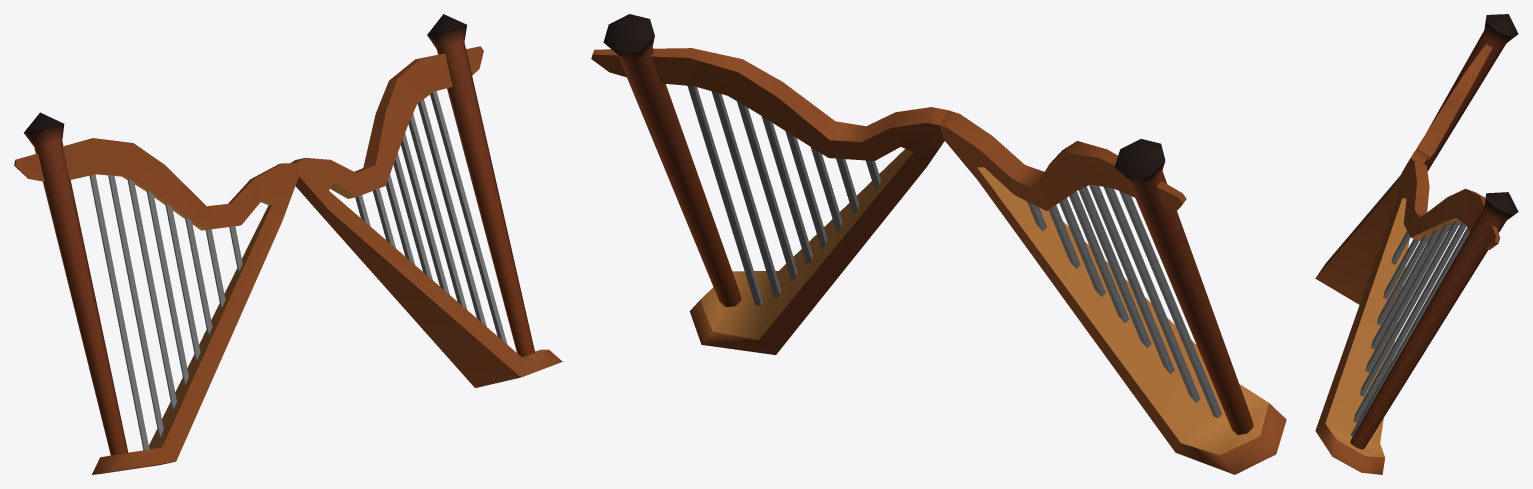
File: hat_premium_Harp.glb
The picture shows the model from 3 angles, left to right: view 1: azimuth 30°, elevation 25°; view 2: azimuth 150°, elevation 25°; view 3: azimuth 270°, elevation 25°; orthographic projection. The views are drawn at different scales.
Parts seen in each view (by area): view 1: hat_premium_Harp; view 2: hat_premium_Harp; view 3: hat_premium_Harp.
Boxes of the visible parts, x1,y1,x2,y2 form: hat_premium_Harp: (14, 14, 562, 474); hat_premium_Harp: (591, 14, 1286, 474); hat_premium_Harp: (1315, 14, 1518, 474).
Bounding box in the file's own units: 0.8038 × 0.5054 × 0.3336.
